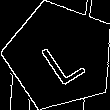L_NW: (32, 26, 88, 85)
